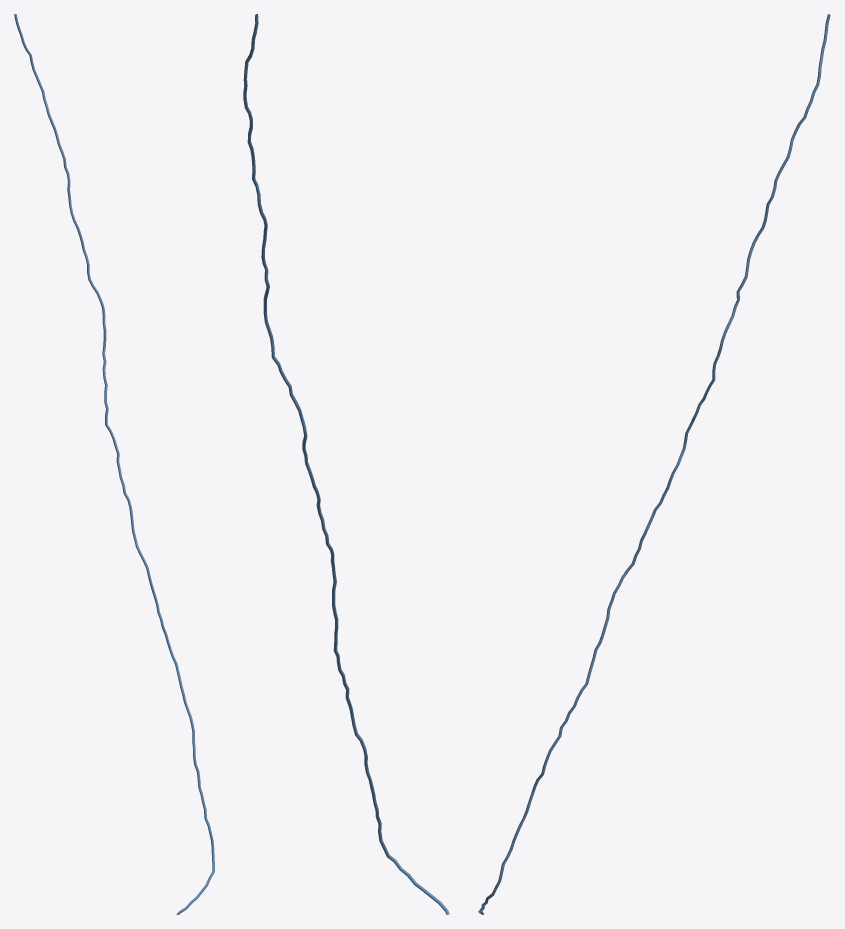
The model's file is sweep392.fbx.
3 views of the same model, side by side, from view 1: azimuth 30°, elevation 25°; view 2: azimuth 150°, elevation 25°; view 3: azimuth 270°, elevation 25° (orthographic). The views are drawn at different scales.
Parts seen in each view (by area): view 1: sweep392; view 2: sweep392; view 3: sweep392.
Boxes of the visible parts, x1=… form: sweep392: x1=14, y1=14, x2=214, y2=914; sweep392: x1=243, y1=14, x2=449, y2=914; sweep392: x1=478, y1=14, x2=830, y2=914.
Size of the model in its own units: 0.4632 by 6.39 by 2.28.
